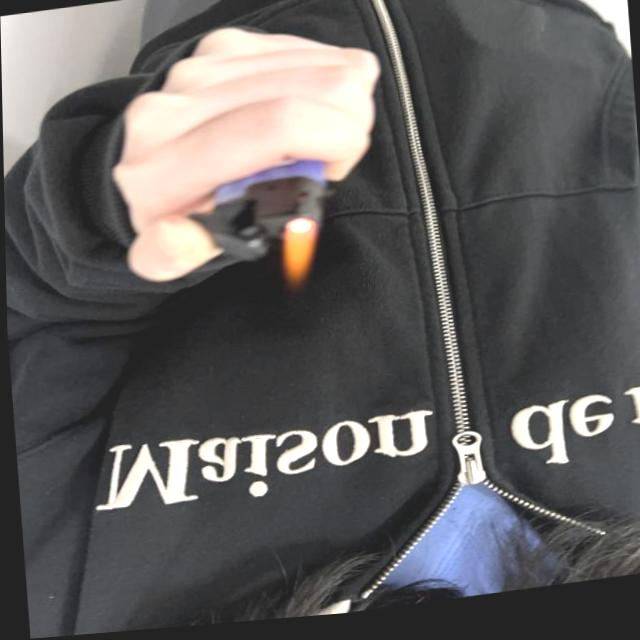Fire: (278, 219, 321, 295)
